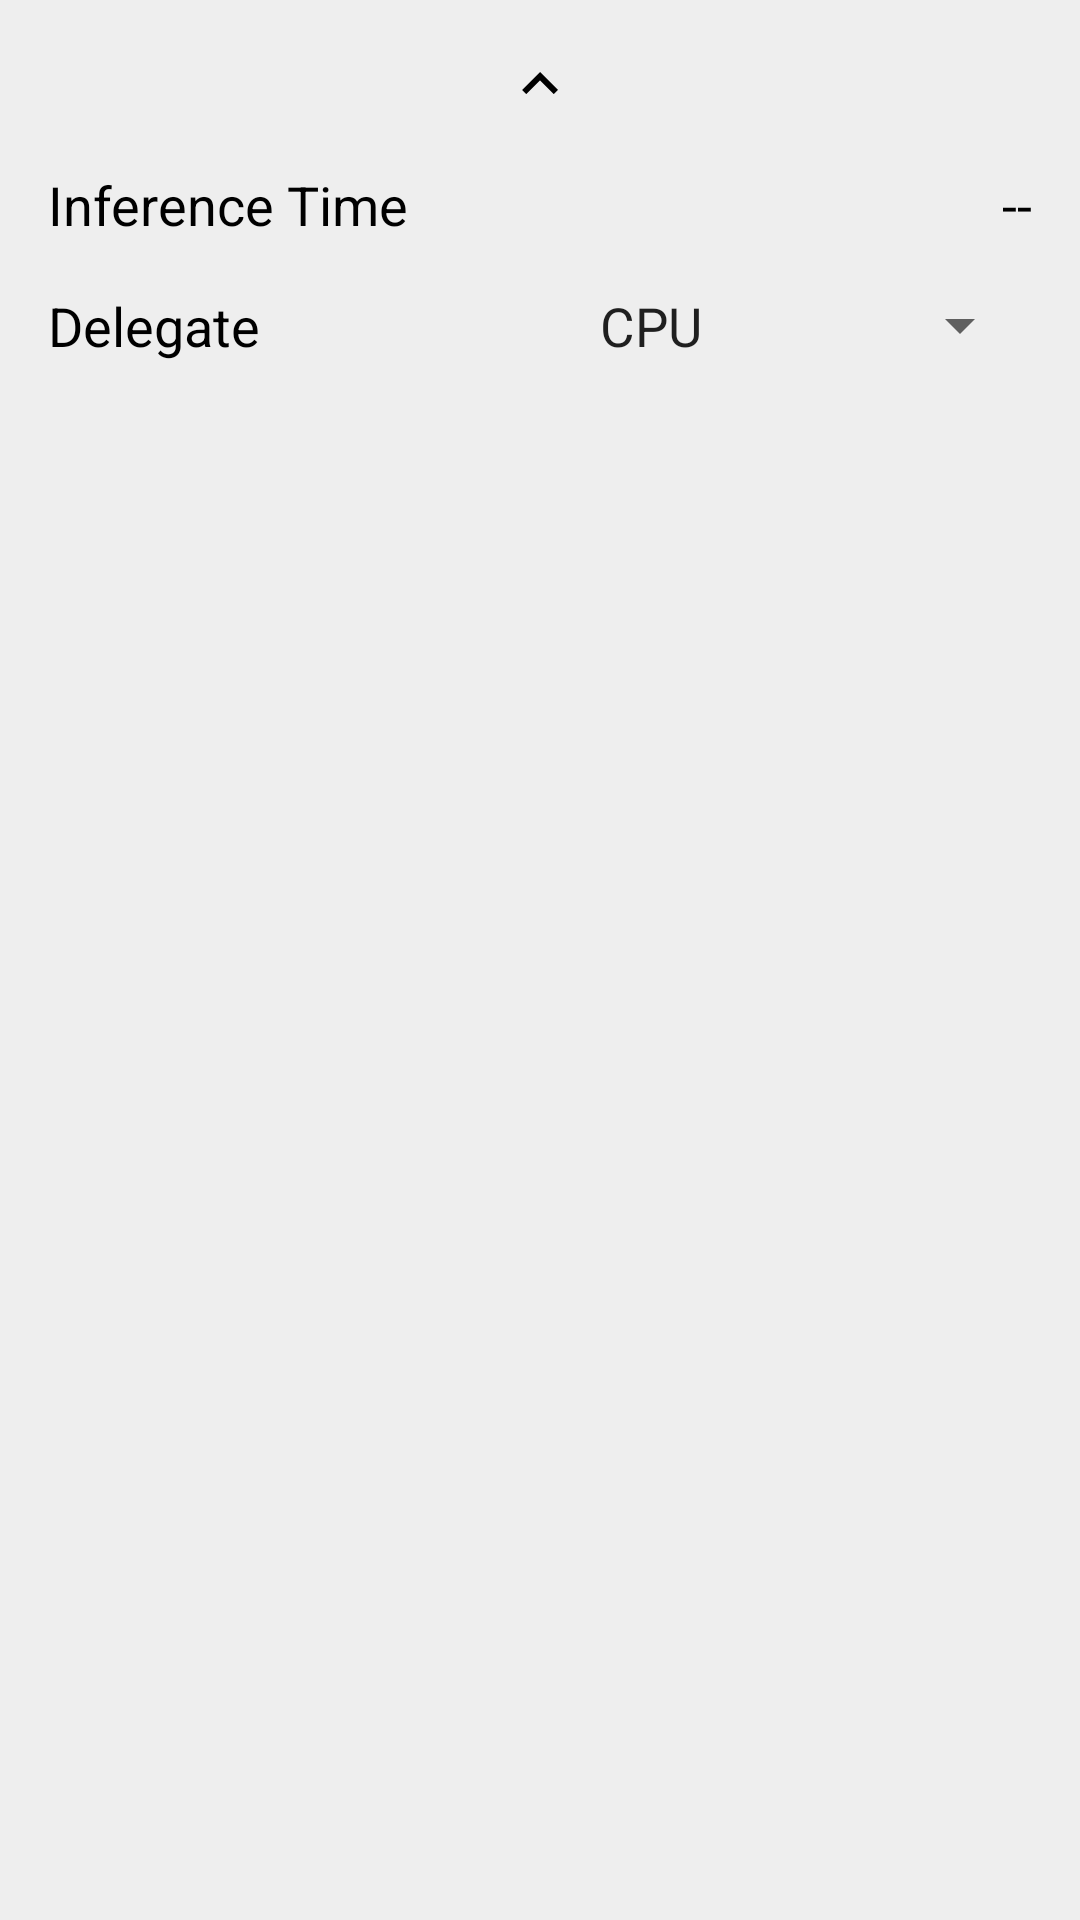

Icons on this 1080×1920 Android screen, each with the point to tap as (x=x, y=y):
Bottom sheet expandable indicator: (x=540, y=83)
